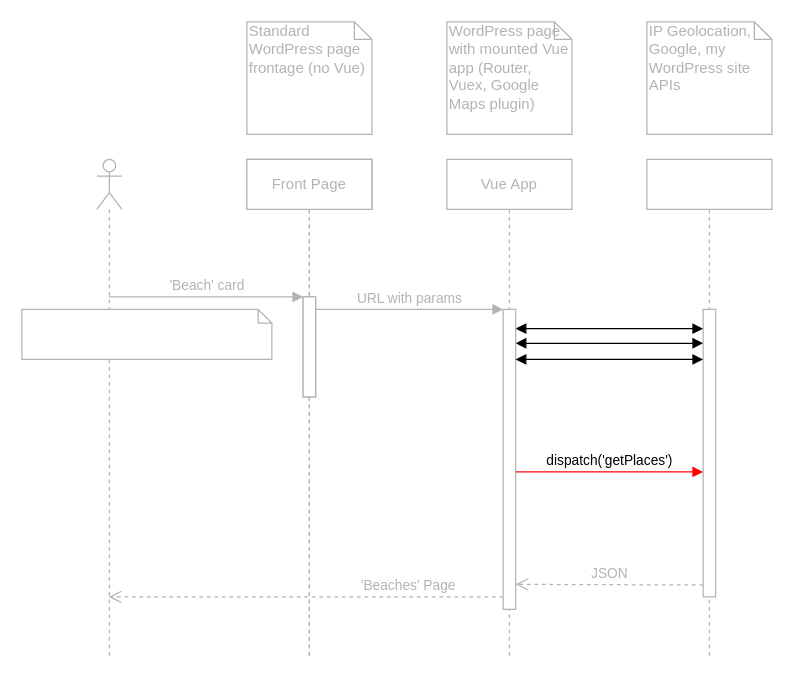
Image size: 794x681. Some labels were removed from this diagram. The box of each missing label's shape, as (x1, y1, x2, y2) in pixels:
External APIs: (646, 158, 772, 659)
site.com/app/?category=beach: (21, 308, 272, 359)
